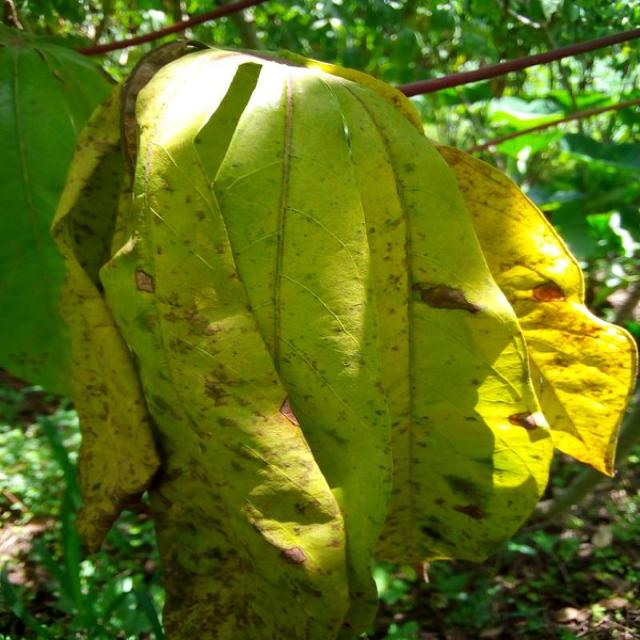cassava leaf: (49, 37, 637, 638)
